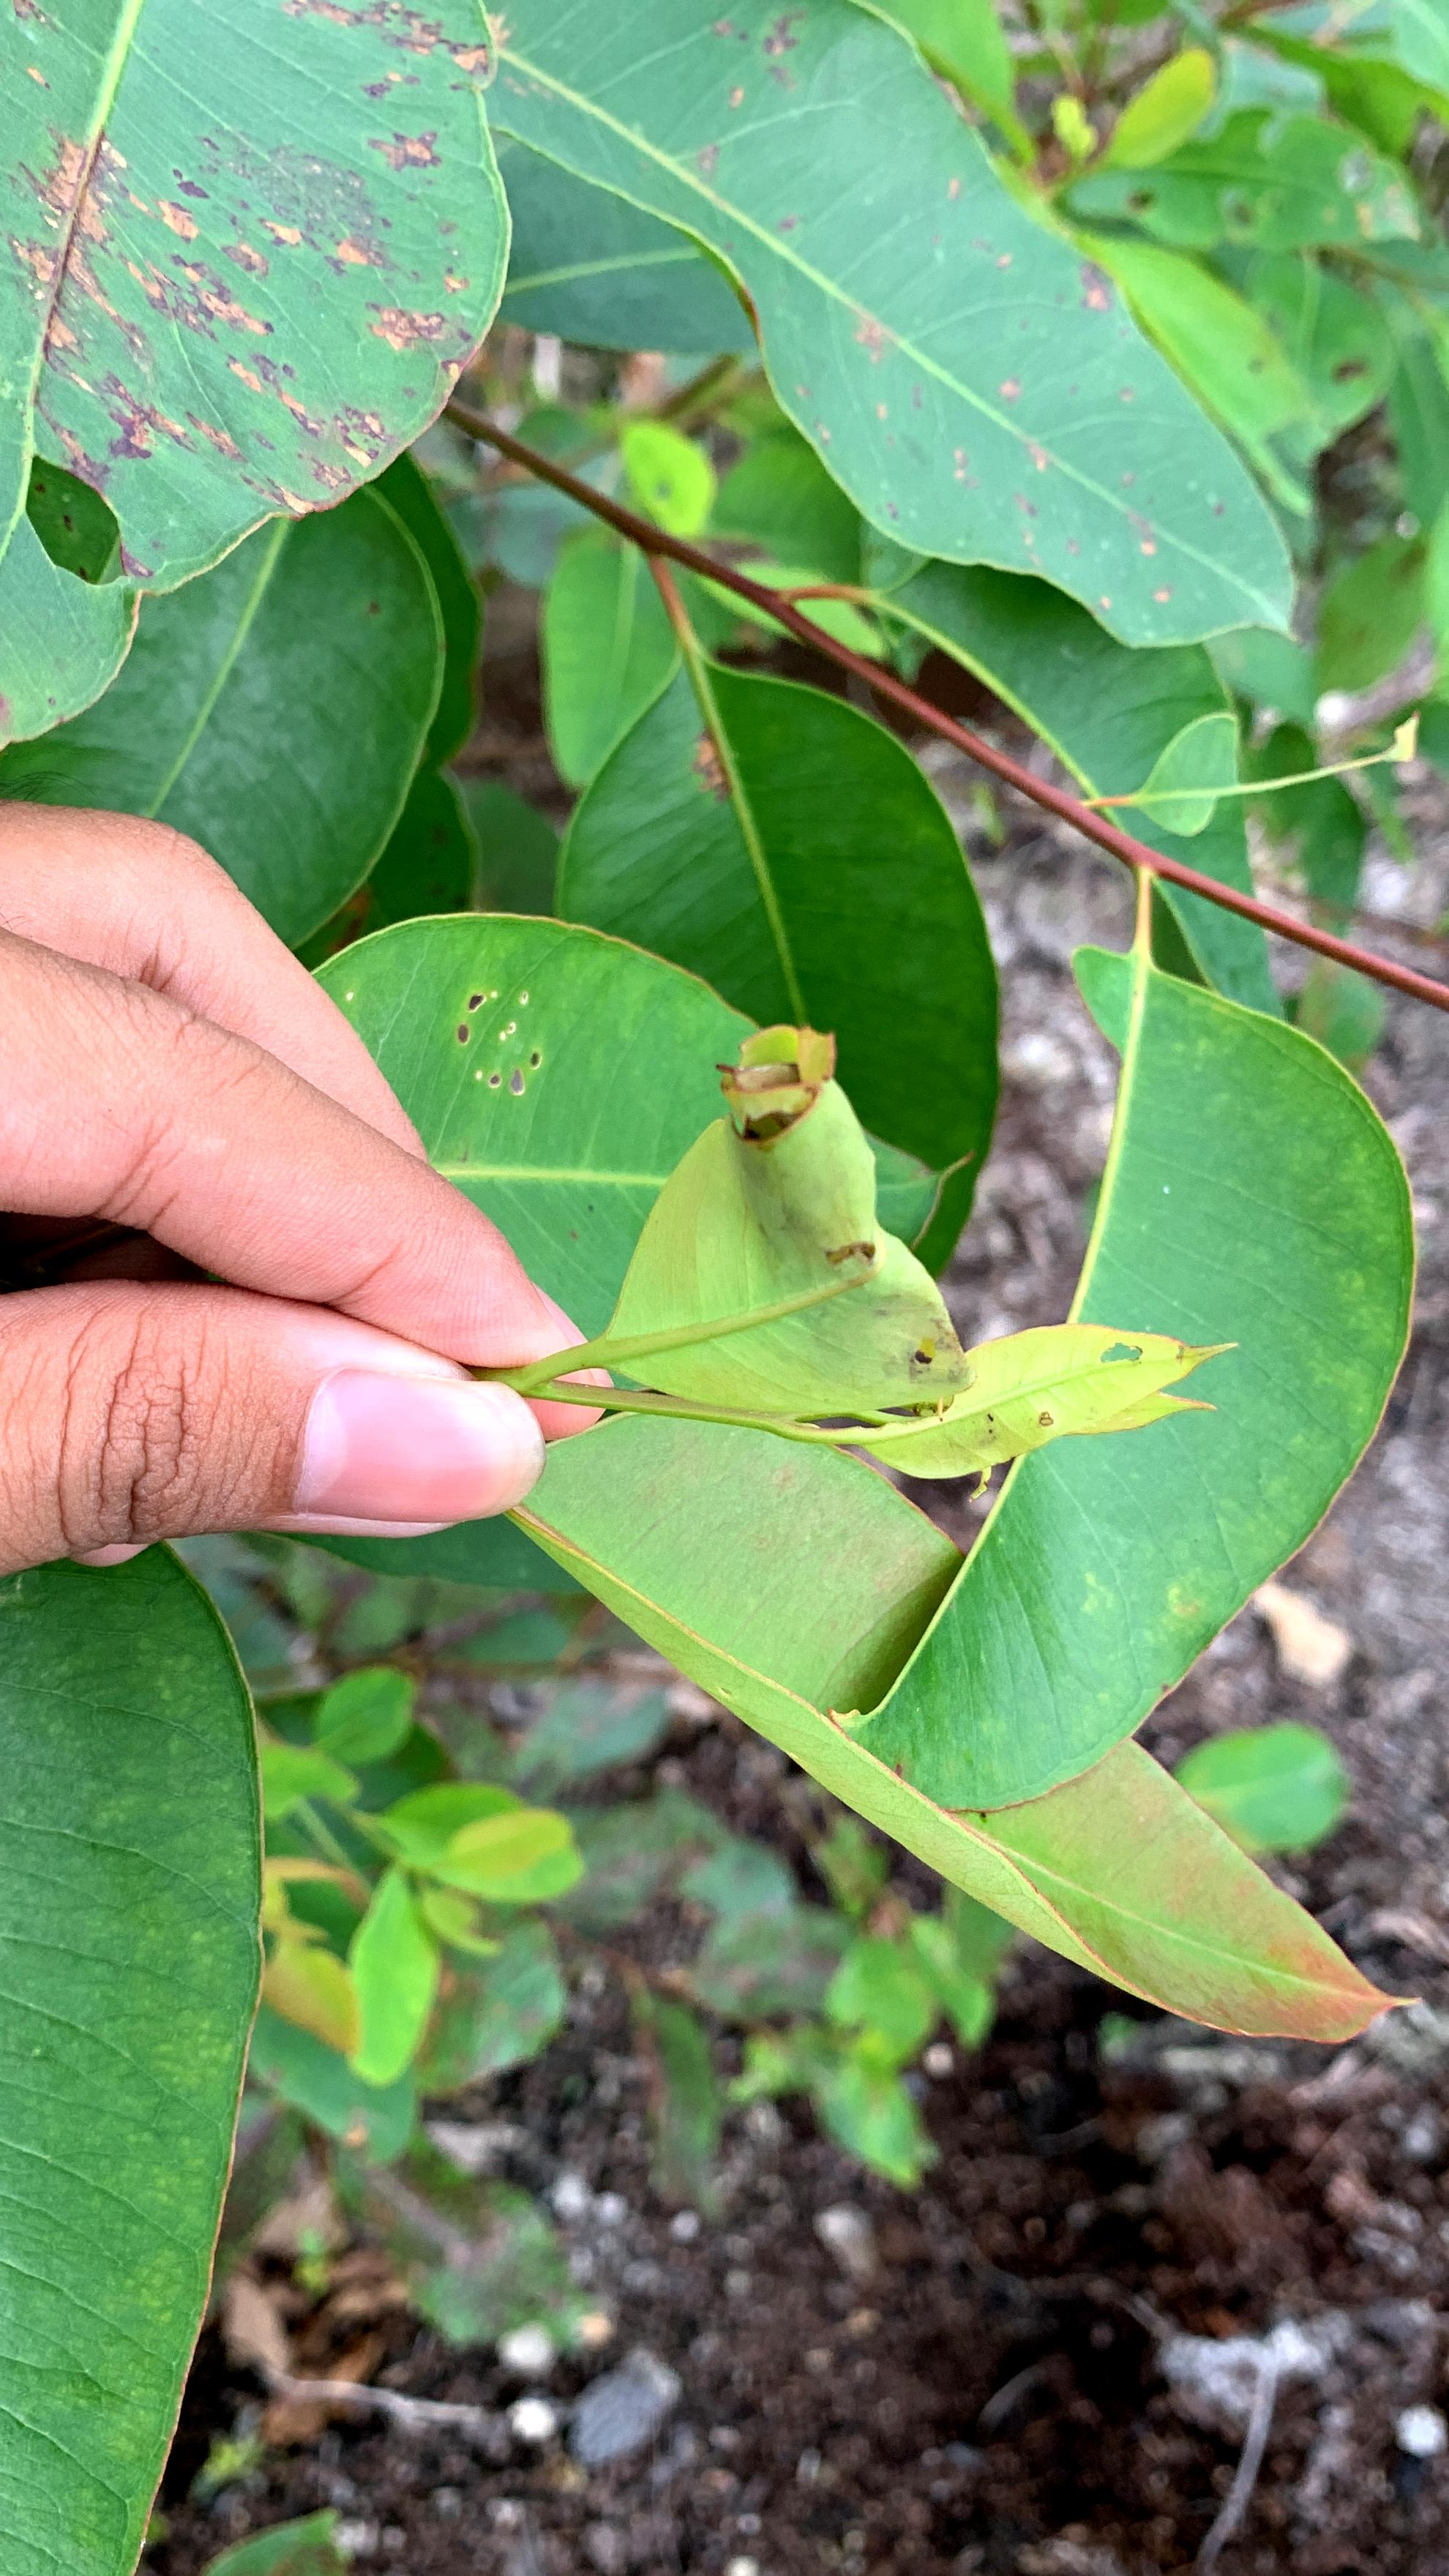Leaf Roller - Leaf: (536, 961, 1256, 1548)
